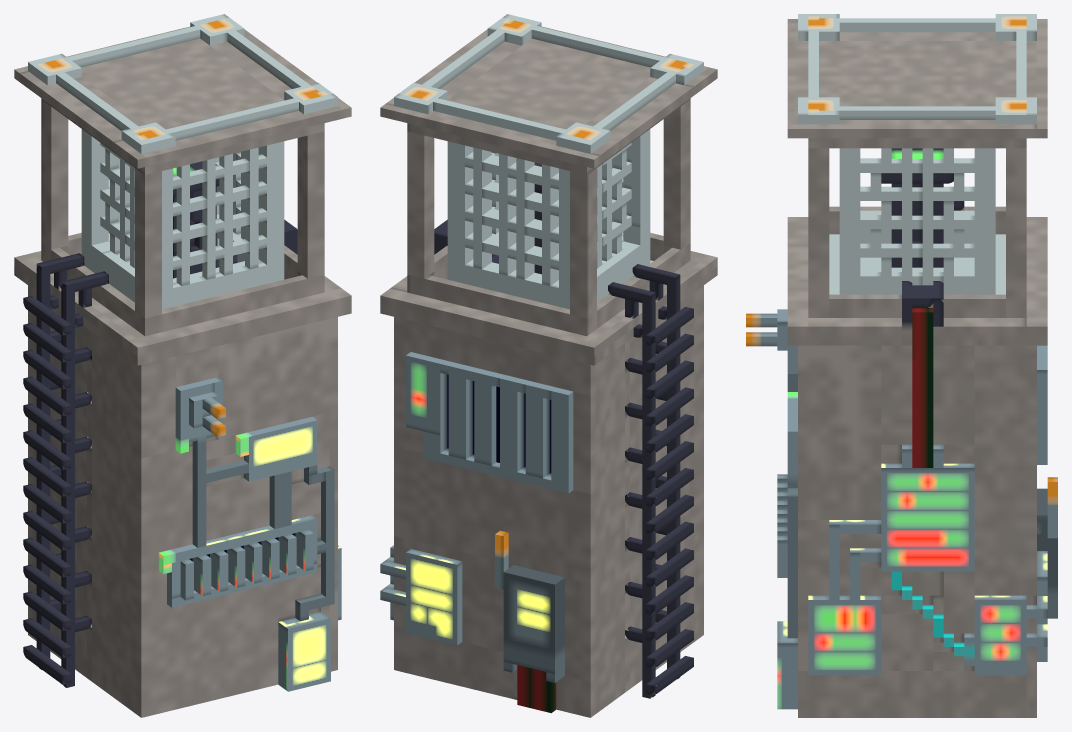
The model's file is wieza_dzwon.dae.
3 views of the same model, side by side, from view 1: azimuth 30°, elevation 25°; view 2: azimuth 150°, elevation 25°; view 3: azimuth 270°, elevation 25° (orthographic). The views are drawn at different scales.
Parts seen in each view (by area): view 1: Content; view 2: Content; view 3: Content.
Part boxes in pixels (left/top/right/bottom): Content: left=14, top=14, right=351, bottom=717; Content: left=380, top=14, right=717, bottom=717; Content: left=746, top=14, right=1057, bottom=717.
Bounding box in the file's own units: 29 × 64 × 30.
Materials: 1 (1 with a texture image).
